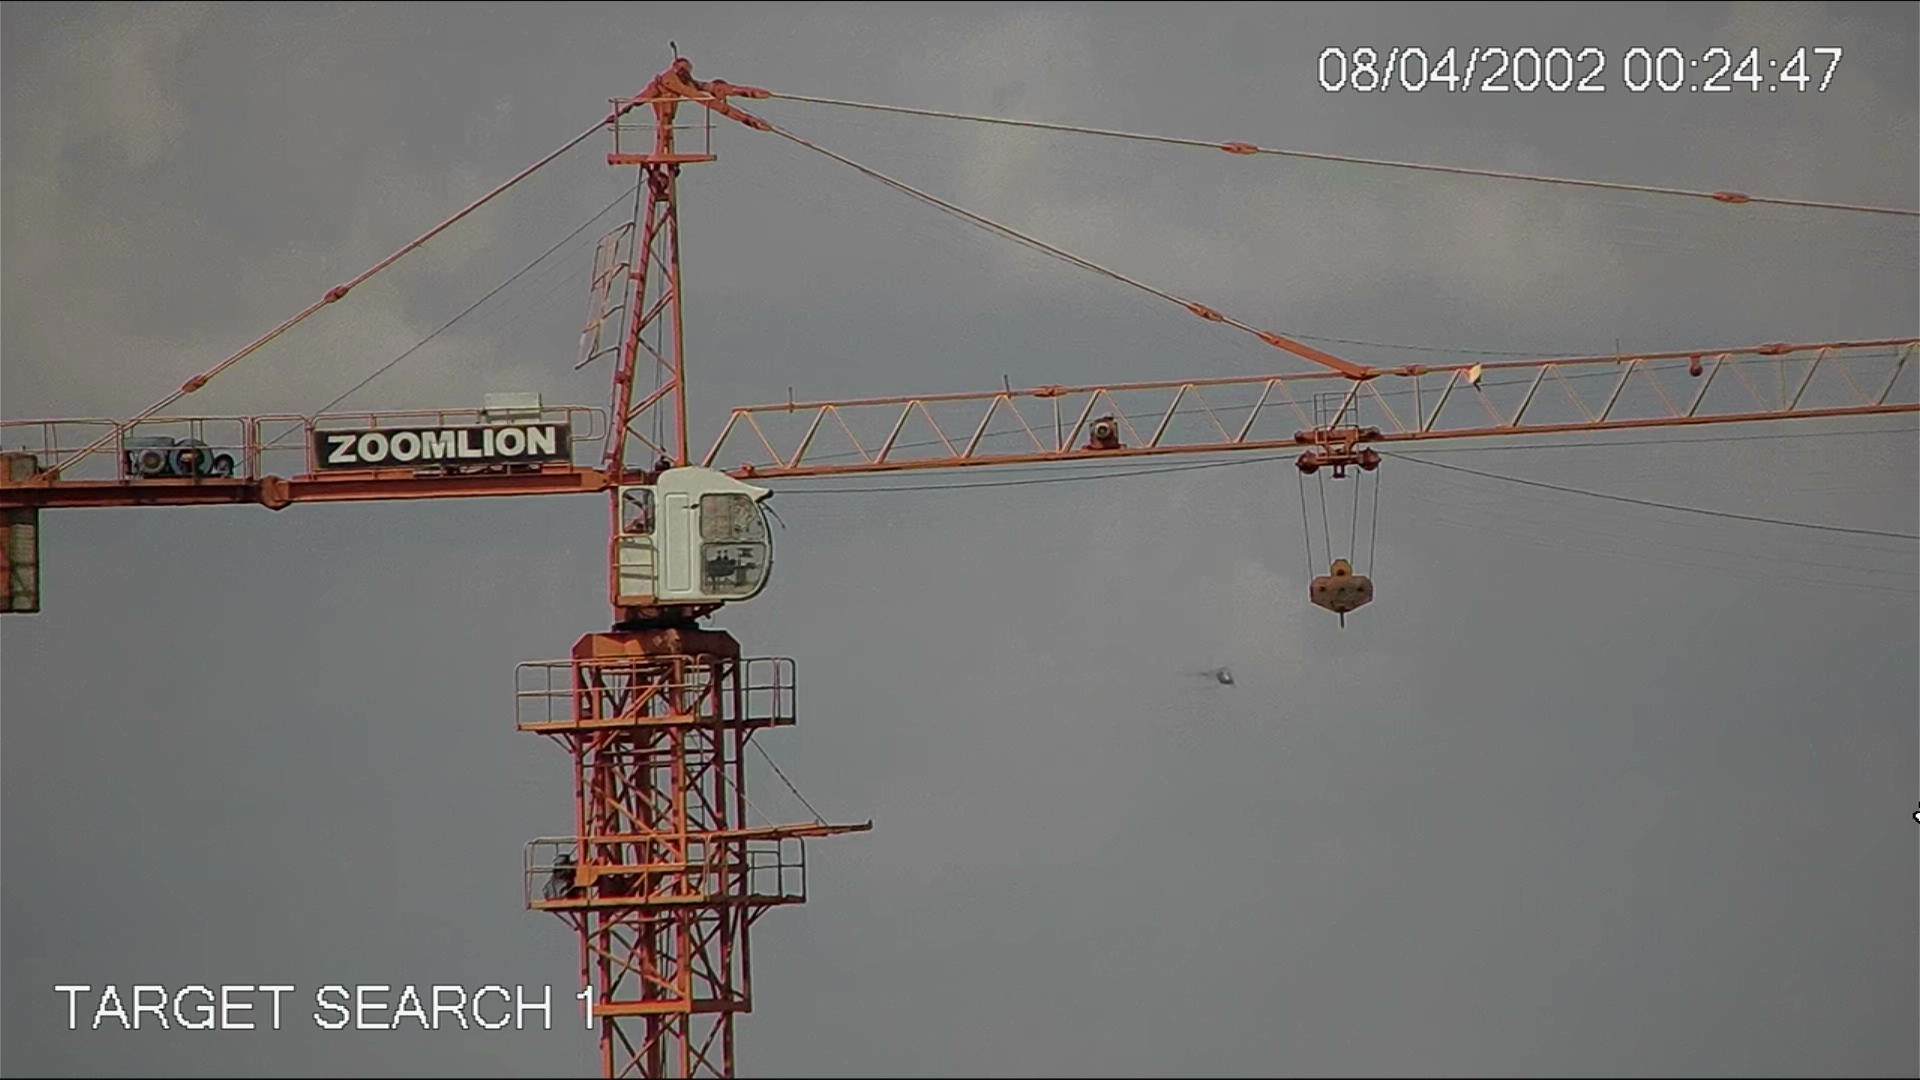SU_30: (1191, 658, 1238, 688)
